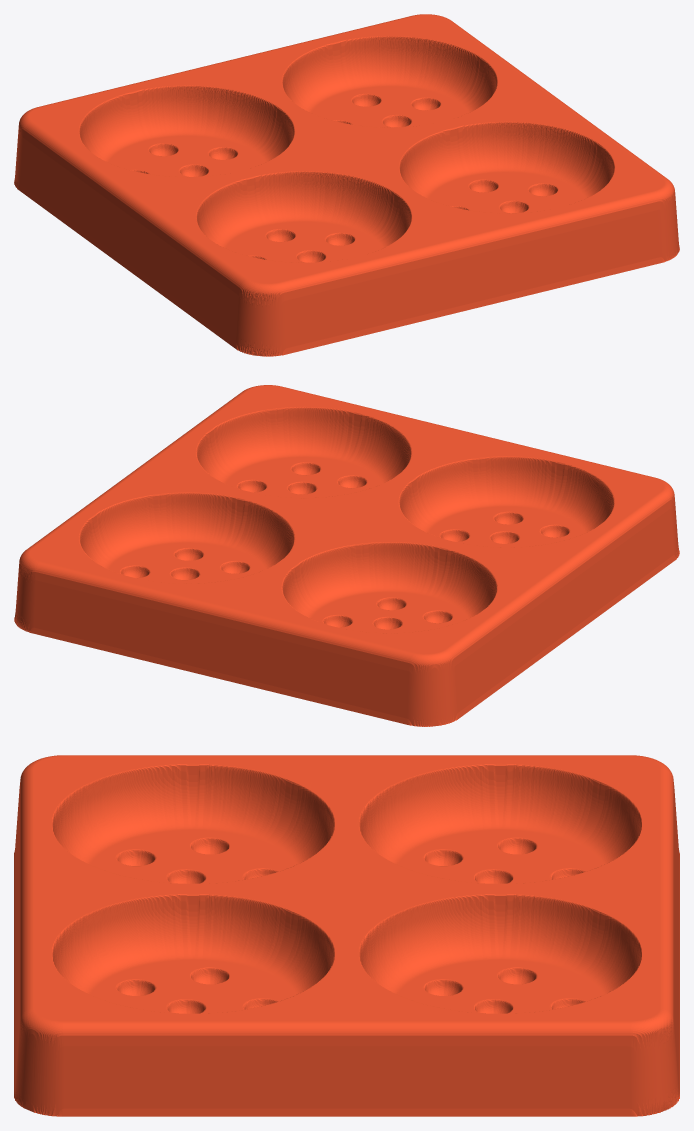
Rendered from mold.glb.
3 renders of one model, top to bottom at view 1: azimuth 30°, elevation 25°; view 2: azimuth 150°, elevation 25°; view 3: azimuth 270°, elevation 25°, orthographic. The views are drawn at different scales.
Parts seen in each view (by area): view 1: geometry_0; view 2: geometry_0; view 3: geometry_0.
Boxes of the visible parts, <box> form: geometry_0: <box>14,14,679,356</box>; geometry_0: <box>14,385,679,726</box>; geometry_0: <box>14,755,679,1116</box>.
Size of the model in its own units: 0.1211 by 0.0175 by 0.1211.
